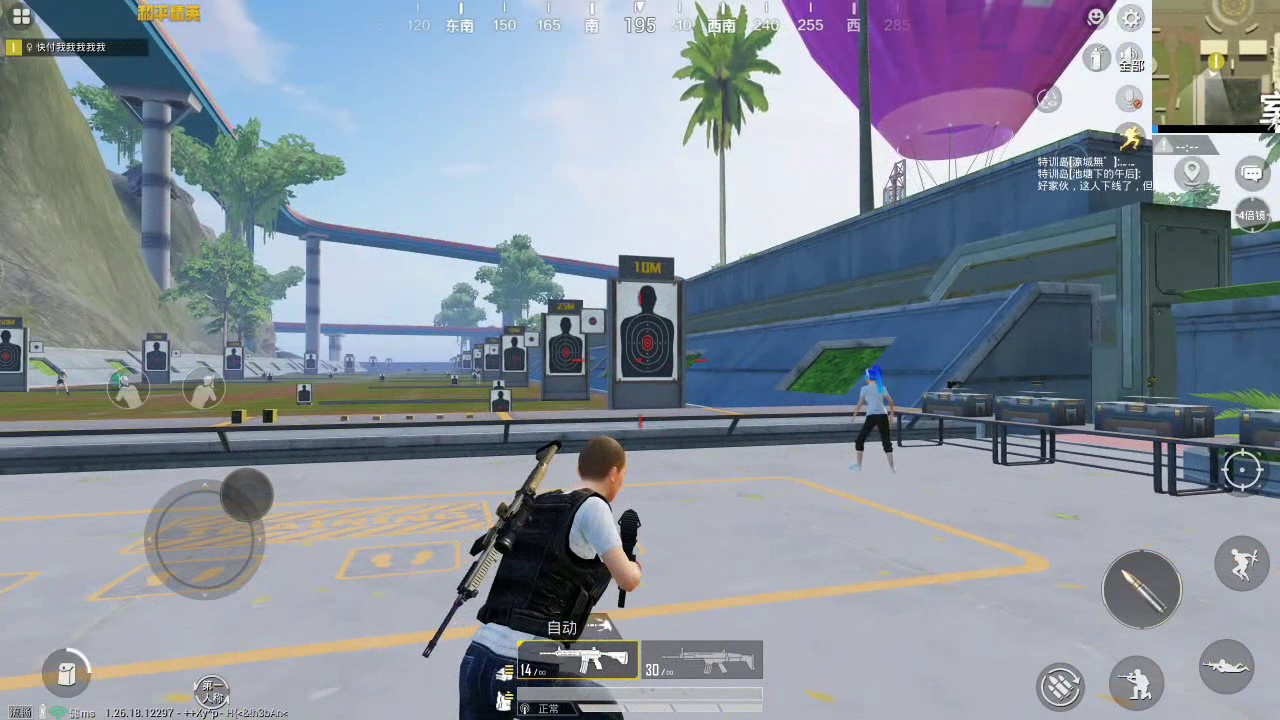enemy: (853, 365, 895, 471)
